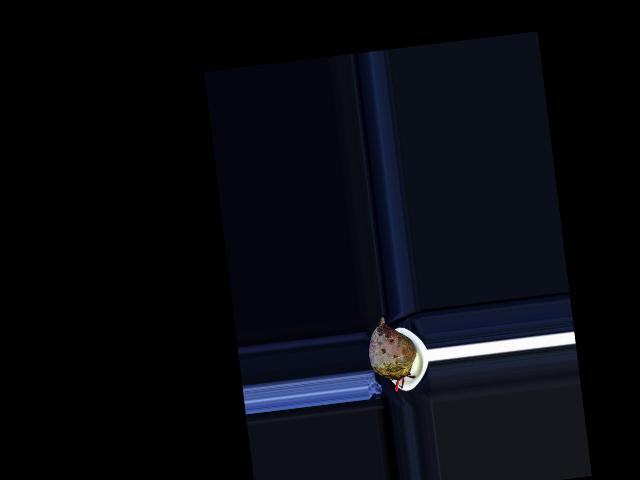beet: (365, 314, 421, 394)
